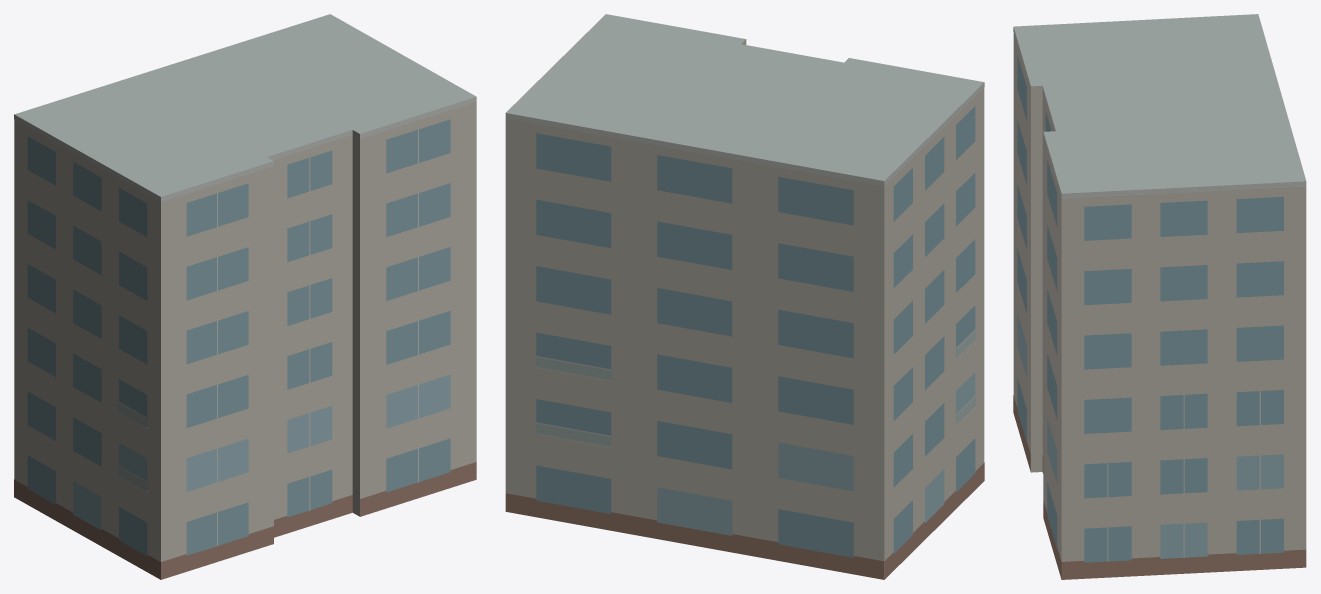
File: survey-upis-32962721.glb
3 renders of one model, left to right at view 1: azimuth 30°, elevation 25°; view 2: azimuth 150°, elevation 25°; view 3: azimuth 270°, elevation 25°, orthographic. The views are drawn at different scales.
Parts seen in each view (by area): view 1: survey-upis-32962721.tmp; view 2: survey-upis-32962721.tmp; view 3: survey-upis-32962721.tmp.
Part boxes in pixels (x1,y1,x2,y2): survey-upis-32962721.tmp: [14, 14, 476, 579]; survey-upis-32962721.tmp: [505, 14, 984, 579]; survey-upis-32962721.tmp: [1013, 14, 1306, 579].
Bounding box in the file's own units: 18.27 × 18.3 × 12.59.
